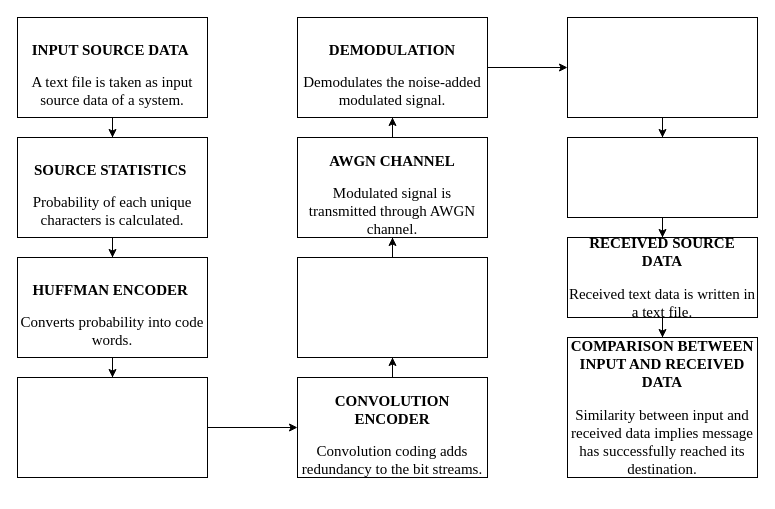
This 775x509 diagram has some shape labels left out. Each missing label, with the centre of its shape:
"HUFFMAN DECODER It converts the decoded bit stream to the decoded message." belongs at (x=662, y=177).
"MODULATION Modulation of the coded bit stream." belongs at (x=392, y=307).
"STREAM GENERATOR Bit stream is generated from code words." belongs at (x=112, y=427).
"VITERBI DECODER Viterbi decoder decodes the channel coded bit stream." belongs at (x=662, y=67).
